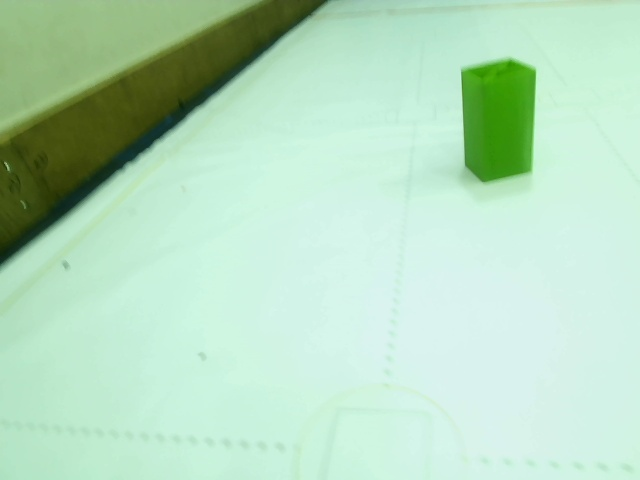green: (463, 61, 536, 178)
